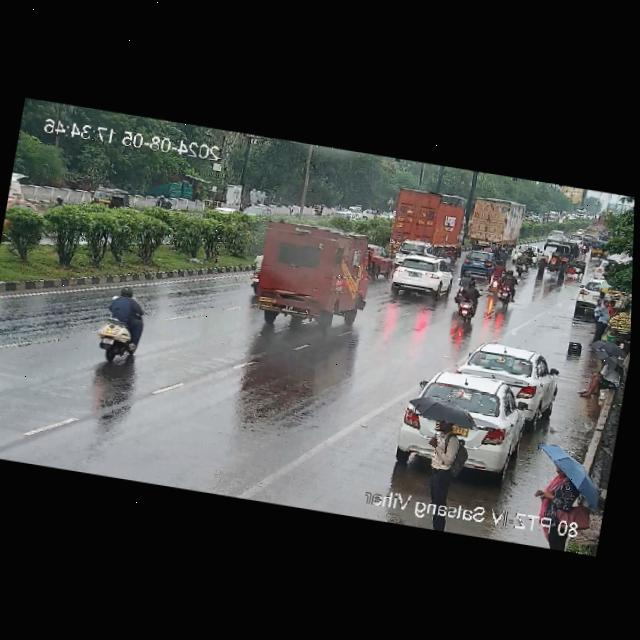car: (403, 368, 532, 456), (459, 338, 562, 412), (384, 252, 458, 308), (536, 239, 579, 285), (458, 246, 494, 279), (364, 241, 396, 277), (86, 186, 131, 210), (572, 277, 598, 308), (398, 239, 439, 258), (513, 243, 541, 265), (589, 239, 610, 260)
motorcycle: (94, 285, 156, 367), (456, 275, 484, 328), (496, 268, 520, 305), (487, 258, 507, 294), (150, 191, 171, 211), (515, 250, 529, 274), (524, 245, 537, 270), (458, 267, 472, 290), (496, 246, 511, 262), (581, 237, 590, 255)
person: (420, 421, 465, 501), (533, 465, 586, 519), (580, 356, 629, 404), (591, 296, 614, 344), (591, 290, 606, 316)
truck: (236, 212, 381, 336), (377, 182, 474, 265), (461, 194, 526, 254)
